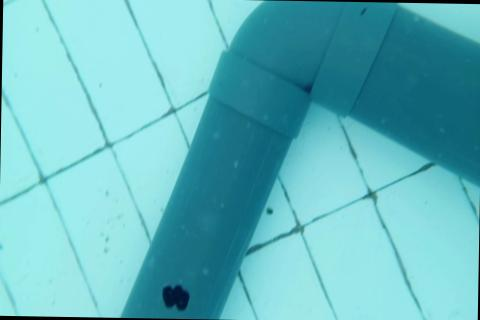kebocoran: (159, 283, 189, 312)
